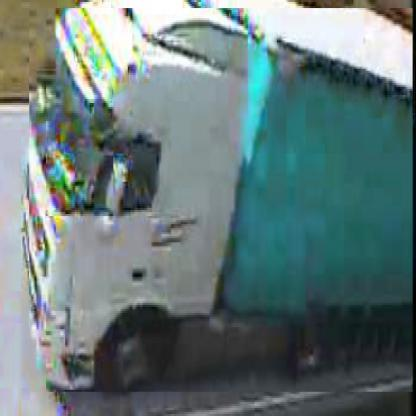container: (29, 9, 414, 395)
